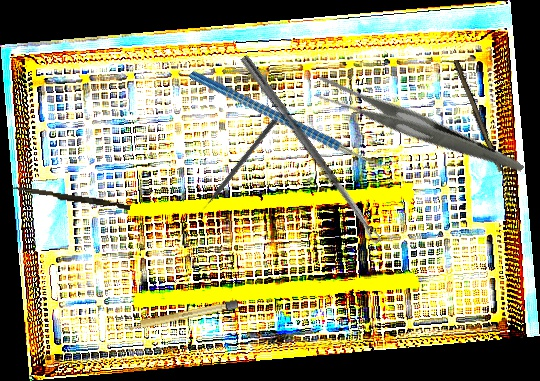Chopper: (188, 14, 398, 223)
Dressing Forceps: (309, 29, 525, 228)
Pusher: (195, 116, 279, 217), (11, 185, 131, 211)
Scalpel Handle: (450, 59, 505, 174), (122, 298, 240, 333)
Surgical Spoon: (239, 54, 382, 246)
